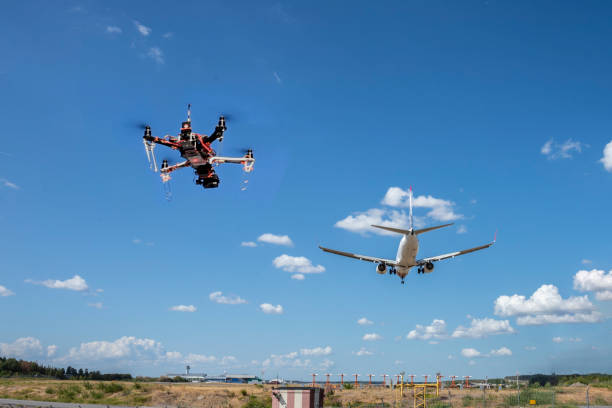Drone: (127, 102, 259, 197)
